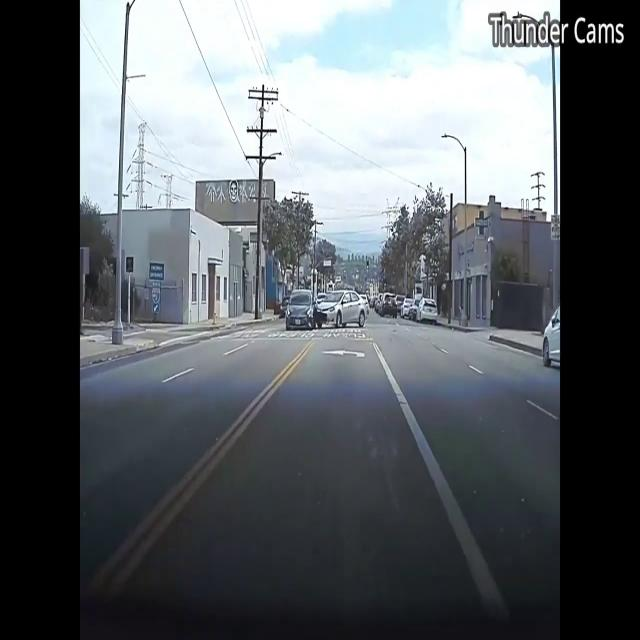accident: (278, 284, 370, 336)
